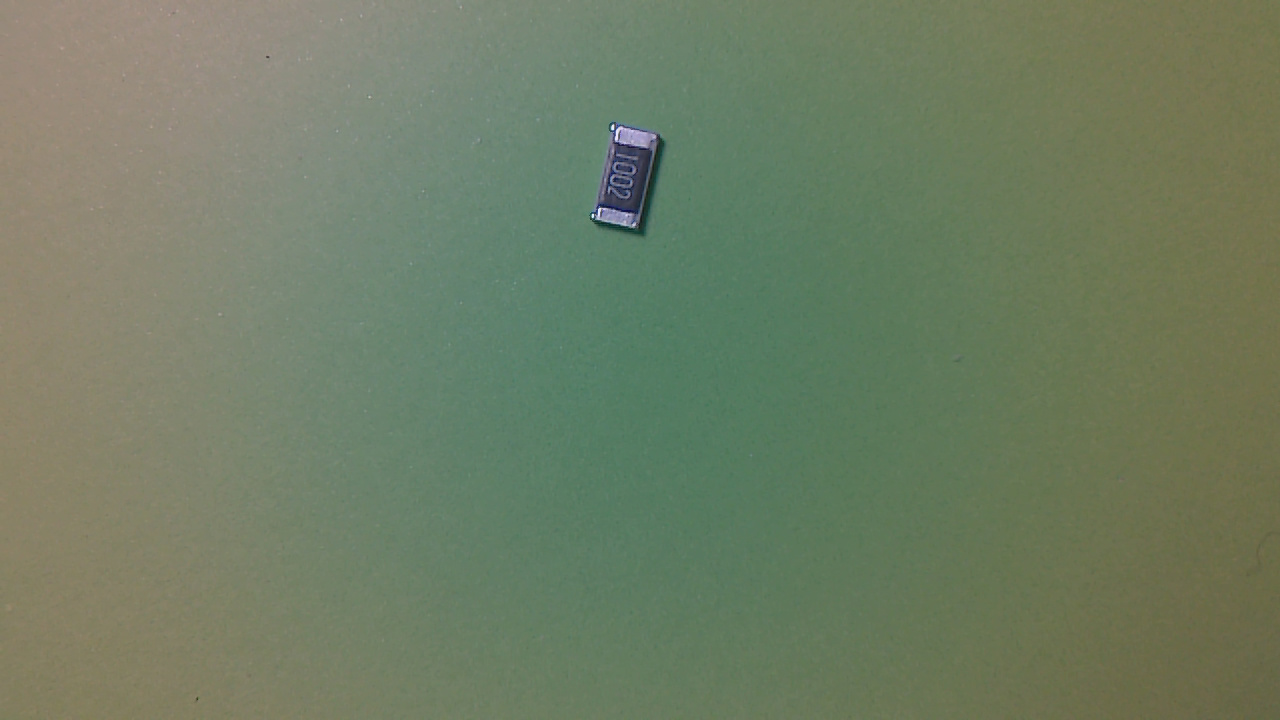Resistor: (591, 127, 672, 239)
